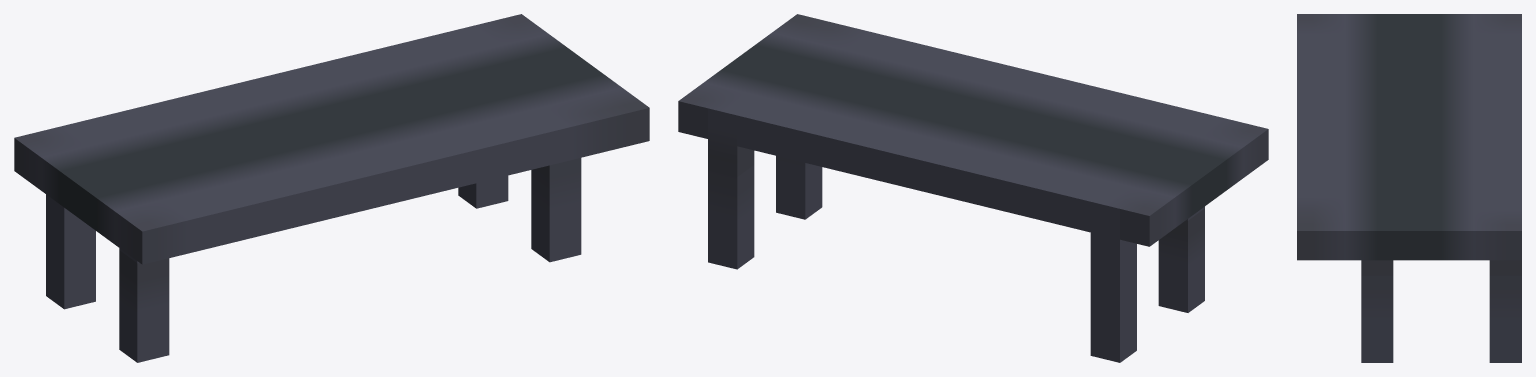
The model's file is Market_Table.fbx.
3 renders of one model, left to right at view 1: azimuth 30°, elevation 25°; view 2: azimuth 150°, elevation 25°; view 3: azimuth 270°, elevation 25°, orthographic. The views are drawn at different scales.
Visible parts, largest first — view 1: Market_Table; view 2: Market_Table; view 3: Market_Table.
Part boxes in pixels (x1,y1,x2,y2): Market_Table: (14, 14, 649, 362); Market_Table: (678, 14, 1268, 362); Market_Table: (1297, 14, 1521, 362).
Bounding box in the file's own units: 160 × 50 × 70.
1 material, 1 textured.
